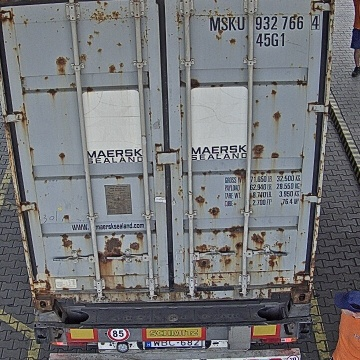serial_id: (210, 15, 320, 30)
